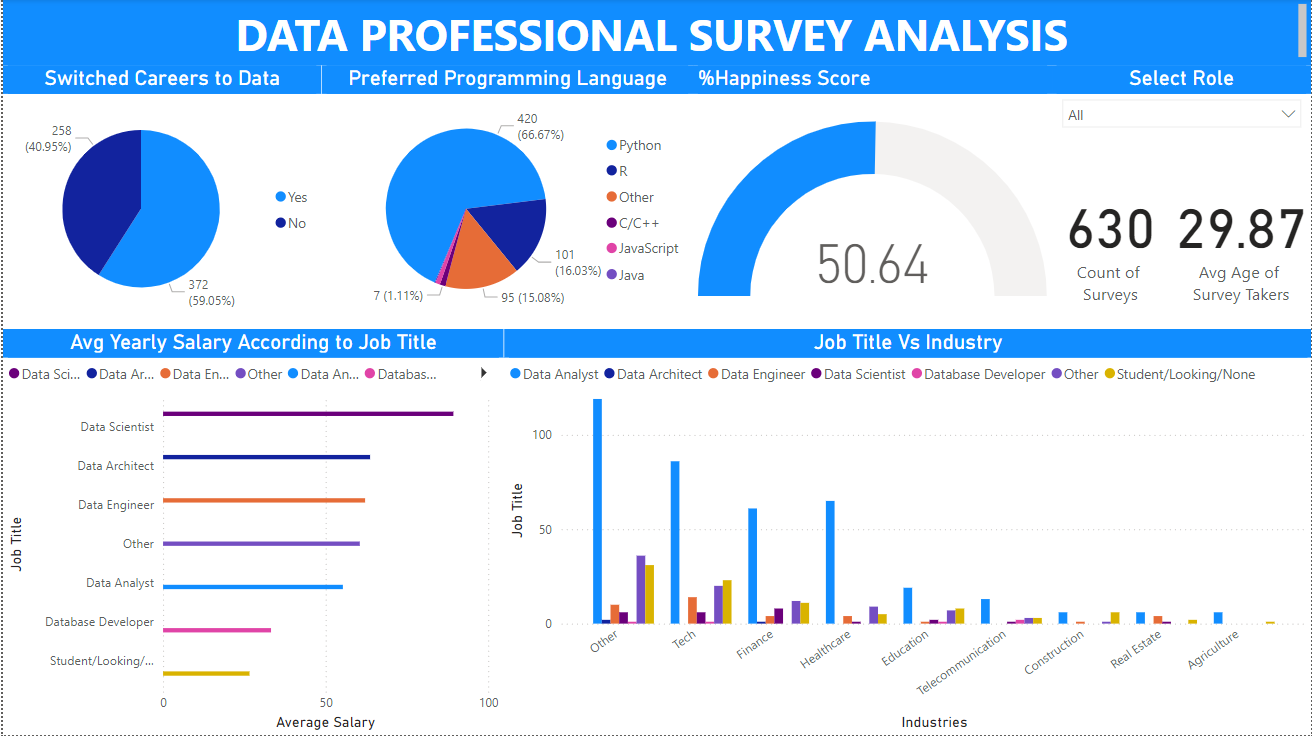

What the dashboard file says about the page in this screenshot:
{"tool":"powerbi","page":{"name":"Page 1","canvas":[1280,720],"ordinal":0},"visuals":[{"type":"card","title":"Number Of Surveys","fields":{"Values":["Count(Data Professional Survey.Unique ID)"]},"box":[1026.4,134.5,115.3,188],"z":0},{"type":"textbox","box":[0,0,1280.3,64.5],"z":1000},{"type":"card","fields":{"Values":["Avg(Data Professional Survey.Q10 - Current Age)"]},"box":[1141.7,134.5,138.6,188],"z":2000},{"type":"clusteredBarChart","title":"Avg Yearly Salary According to Job Title","fields":{"Category":["Data Professional Survey.Q1 - Which Title Best Fits your Current Role?.1"],"Y":["Avg(Data Professional Survey.Avg Salary)"],"Series":["Data Professional Survey.Q1 - Which Title Best Fits your Current Role?.1"]},"box":[0,322.5,489.9,397.9],"z":3000},{"type":"pieChart","title":"Switched Careers to Data","fields":{"Y":["CountNonNull(Data Professional Survey.Q2 - Did you switch careers into Data?)"],"Category":["Data Professional Survey.Q2 - Did you switch careers into Data?"]},"box":[0,64.5,311.5,258],"z":4000},{"type":"slicer","title":"Select Role","fields":{"Values":["Data Professional Survey.Q1 - Which Title Best Fits your Current Role?.1"]},"box":[1026.4,64.5,253.9,70],"z":5000},{"type":"pieChart","title":"Preferred Programming Language","fields":{"Y":["CountNonNull(Data Professional Survey.Q5 - Favorite Programming Language.1)"],"Category":["Data Professional Survey.Q5 - Favorite Programming Language.1"]},"box":[311.5,64.5,363.6,258],"z":6000},{"type":"clusteredColumnChart","title":"Job Title Vs Industry","fields":{"Category":["Data Professional Survey.Q4 - What Industry do you work in?.1"],"Series":["Data Professional Survey.Q1 - Which Title Best Fits your Current Role?.1"],"Y":["CountNonNull(Data Professional Survey.Q1 - Which Title Best Fits your Current Role?.1)"]},"box":[489.9,322.5,790.4,397.9],"z":7000},{"type":"gauge","title":" %Happiness Score","fields":{"Y":["Avg(Data Professional Survey.%Overall Happiness)"],"MaxValue":["Max(Data Professional Survey.%Overall Happiness)1"]},"box":[675.1,64.5,351.3,258],"z":8000}]}

Visuals, with their boxes in screenshot pixels (x1, y1, x2, y2), scaled from the page's 1280x720 canvas onto the 1312x736 screenshot:
"Number Of Surveys" card: Rect(1052, 137, 1170, 330)
textbox: Rect(0, 0, 1311, 66)
card - Avg(Data Professional Survey.Q10 - Current Age): Rect(1170, 137, 1311, 330)
"Avg Yearly Salary According to Job Title" clusteredBarChart: Rect(0, 330, 502, 735)
"Switched Careers to Data" pieChart: Rect(0, 66, 319, 330)
"Select Role" slicer: Rect(1052, 66, 1311, 137)
"Preferred Programming Language" pieChart: Rect(319, 66, 692, 330)
"Job Title Vs Industry" clusteredColumnChart: Rect(502, 330, 1311, 735)
" %Happiness Score" gauge: Rect(692, 66, 1052, 330)
